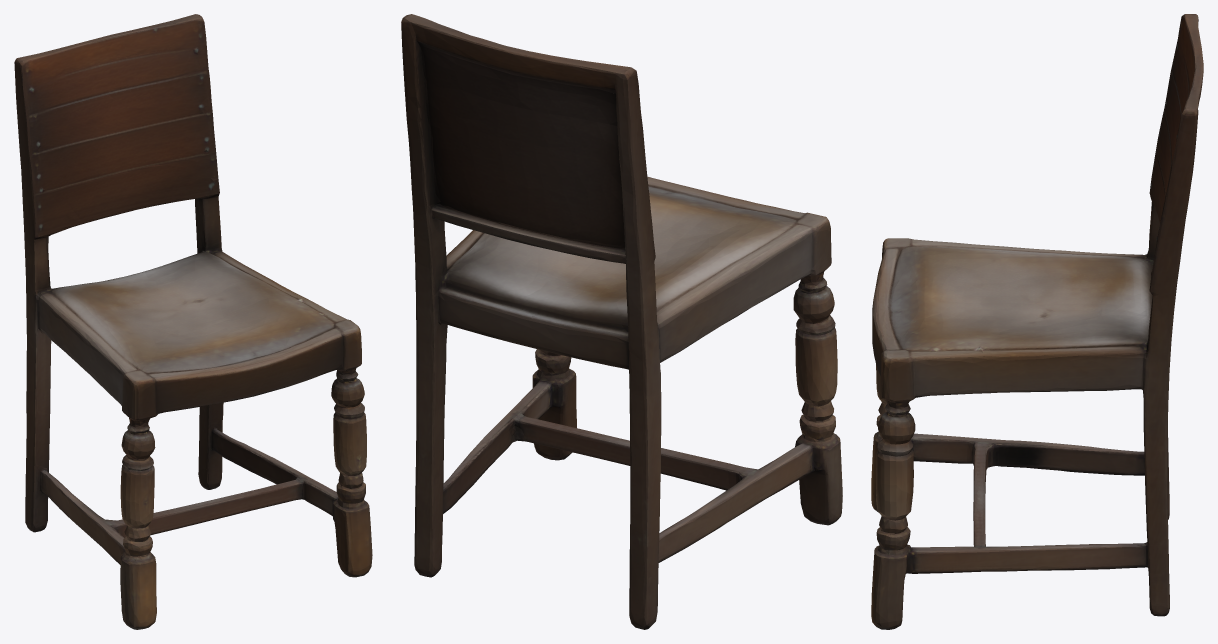
The model's file is EbayChair.glb.
3 renders of one model, left to right at view 1: azimuth 30°, elevation 25°; view 2: azimuth 150°, elevation 25°; view 3: azimuth 270°, elevation 25°, orthographic. The views are drawn at different scales.
Parts seen in each view (by area): view 1: world; view 2: world; view 3: world.
Boxes of the visible parts, x1,y1,x2,y2 form: world: [14, 14, 372, 629]; world: [401, 14, 842, 629]; world: [871, 14, 1203, 629].
Bounding box in the file's own units: 0.5522 × 1 × 0.5959.
1 material, 1 textured.
